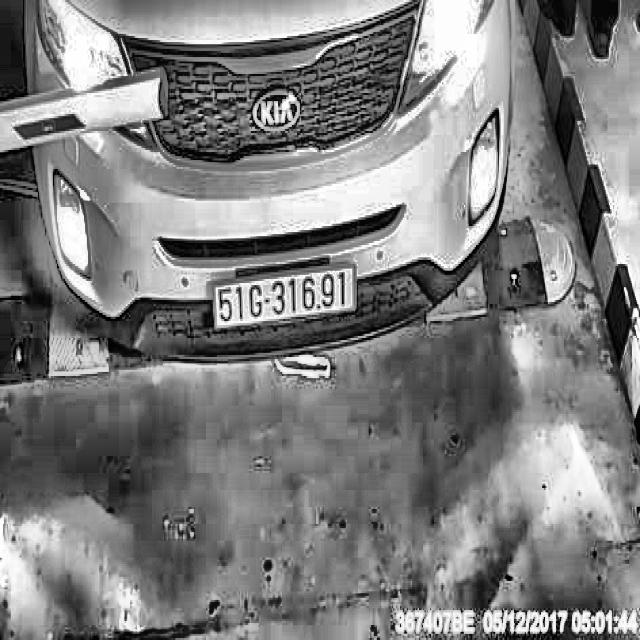plate: (207, 258, 361, 334)
